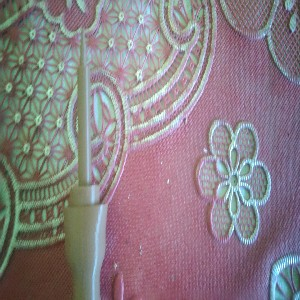solder: (60, 27, 109, 300)
